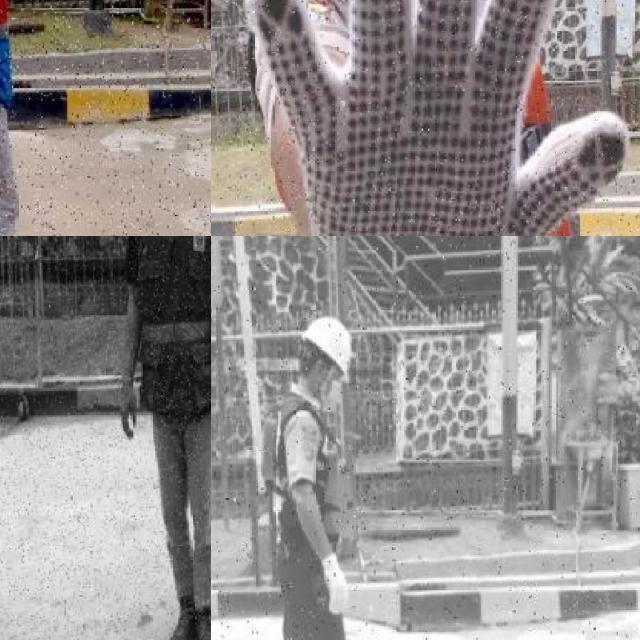apron: (237, 0, 633, 236), (318, 552, 354, 623)
